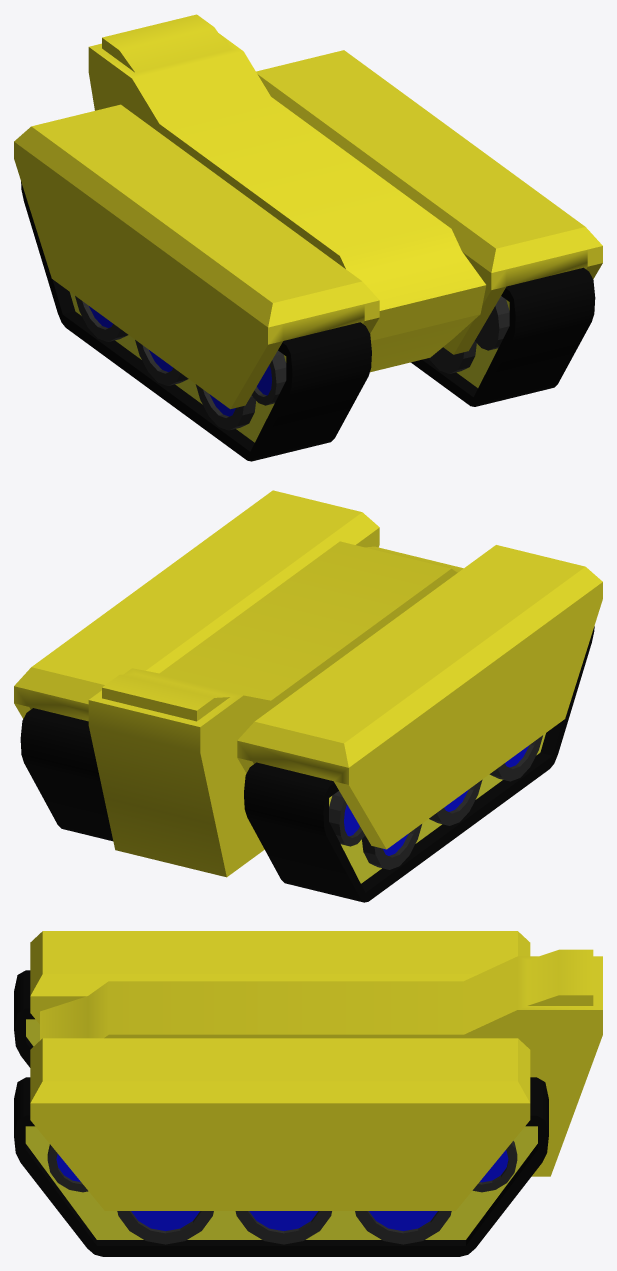
The model's file is TankTrucks1.fbx.
3 views of the same model, one above another, from view 1: azimuth 30°, elevation 25°; view 2: azimuth 150°, elevation 25°; view 3: azimuth 270°, elevation 25° (orthographic).
Parts seen in each view (by area): view 1: LargeTankTracks, LargeTrackSet; view 2: LargeTankTracks, LargeTrackSet; view 3: LargeTankTracks, LargeTrackSet.
Part boxes in pixels (bbox=[...]): LargeTankTracks: bbox=[14, 14, 602, 409]; LargeTrackSet: bbox=[21, 181, 595, 461]; LargeTankTracks: bbox=[14, 490, 602, 877]; LargeTrackSet: bbox=[20, 626, 594, 902]; LargeTankTracks: bbox=[30, 931, 602, 1210]; LargeTrackSet: bbox=[14, 970, 548, 1256].
Bounding box in the file's own units: 250 × 386 × 153.
